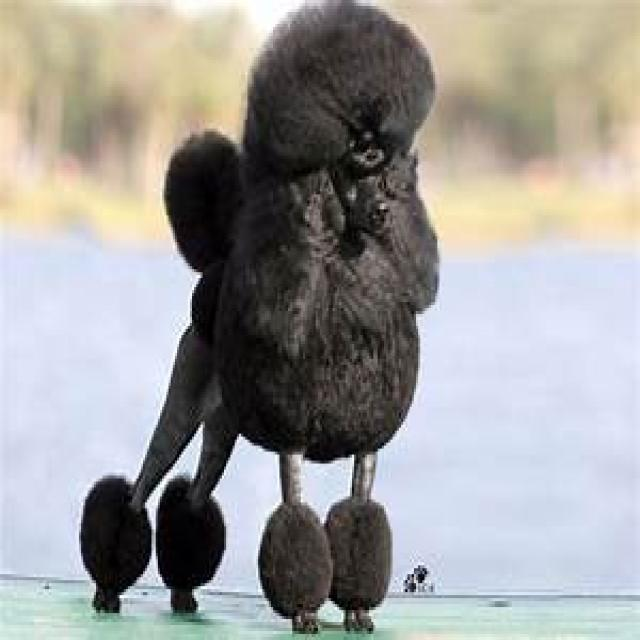dog: (79, 0, 442, 634)
